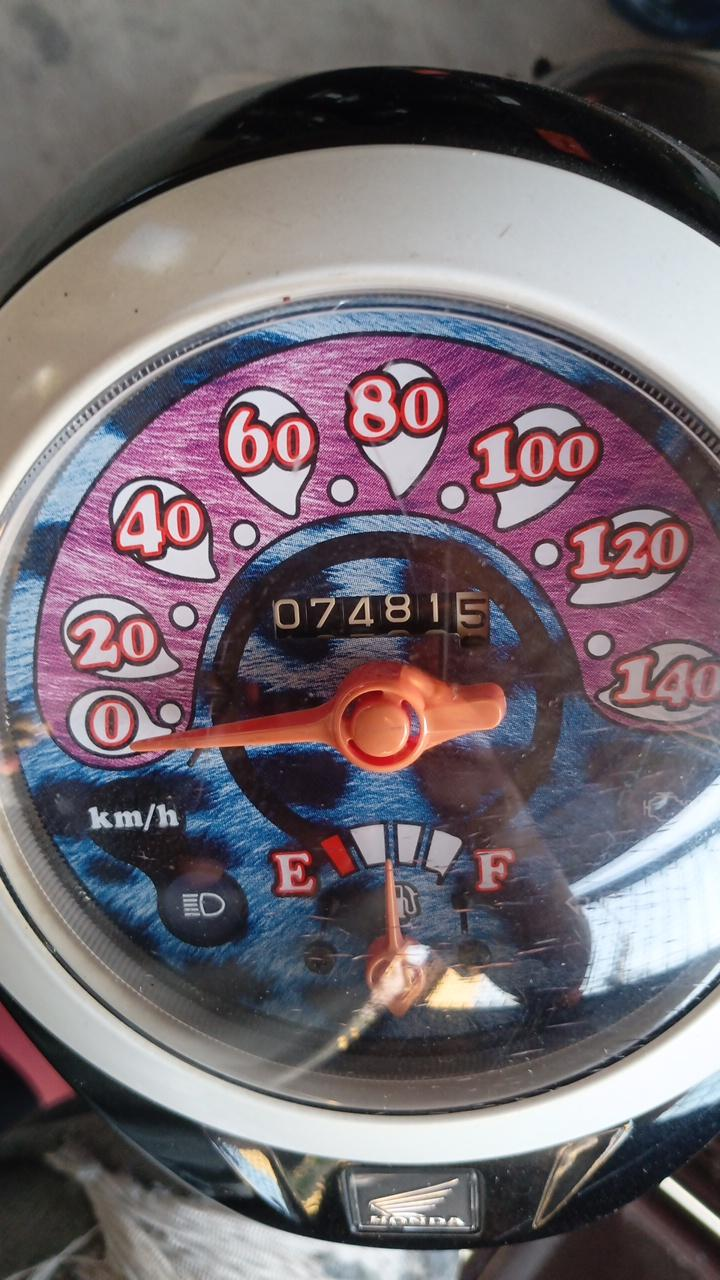0: (274, 596, 301, 633)
1: (429, 592, 441, 623)
4: (347, 596, 375, 630)
5: (459, 596, 487, 630)
7: (309, 597, 336, 631)
8: (383, 594, 412, 625)
odometer: (271, 590, 494, 654)
